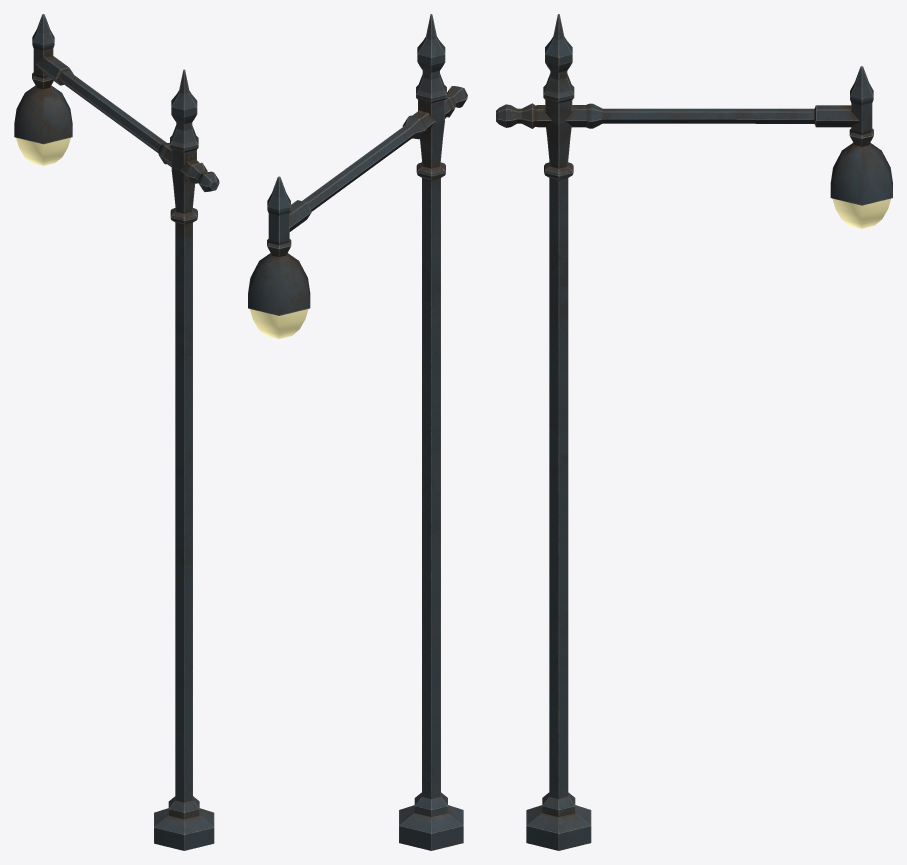
Rendered from Traffic Light_B_01.fbx.
The picture shows the model from 3 angles, left to right: view 1: azimuth 30°, elevation 25°; view 2: azimuth 150°, elevation 25°; view 3: azimuth 270°, elevation 25°; orthographic projection. The views are drawn at different scales.
Parts seen in each view (by area): view 1: Traffic_Light_B_01; view 2: Traffic_Light_B_01; view 3: Traffic_Light_B_01.
Part boxes in pixels (x1,y1,x2,y2): Traffic_Light_B_01: (14, 14, 219, 850); Traffic_Light_B_01: (248, 14, 467, 850); Traffic_Light_B_01: (496, 14, 892, 850).
Bounding box in the file's own units: 87.23 × 1057 × 463.
2 materials, 1 textured.
